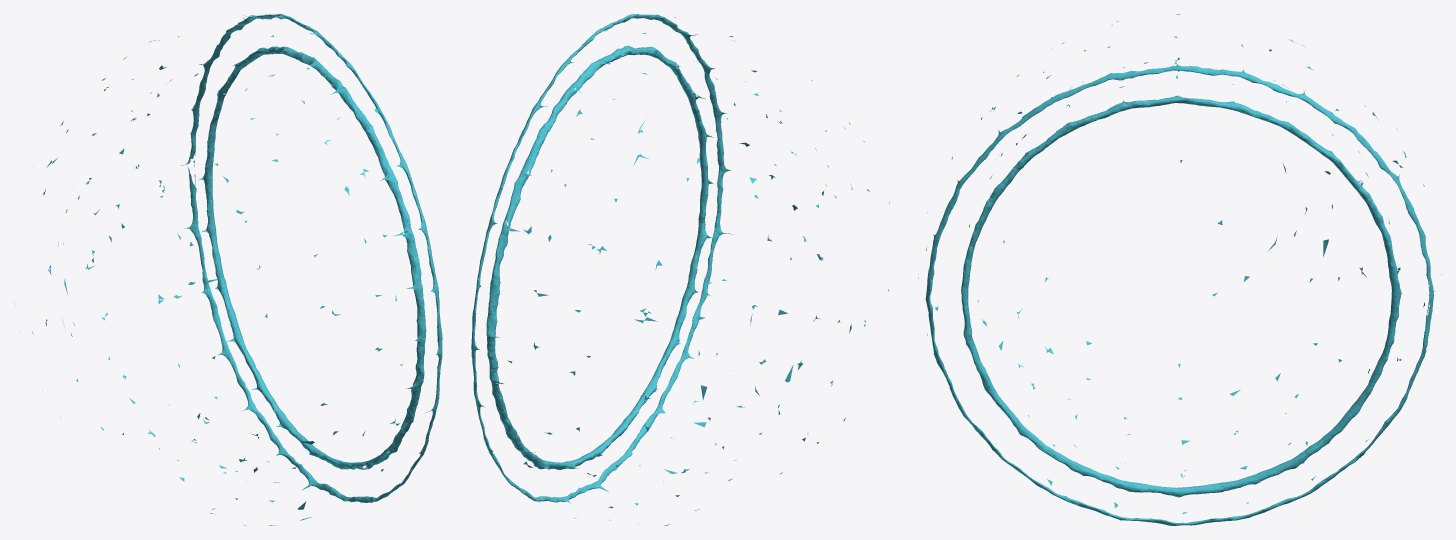
3 renders of one model, left to right at view 1: azimuth 30°, elevation 25°; view 2: azimuth 150°, elevation 25°; view 3: azimuth 270°, elevation 25°, orthographic.
Parts seen in each view (by area): view 1: Renderer Node; view 2: Renderer Node; view 3: Renderer Node.
Boxes of the visible parts, x1,y1,x2,y2 form: Renderer Node: [14, 14, 442, 525]; Renderer Node: [471, 14, 889, 525]; Renderer Node: [918, 14, 1441, 525].
Bounding box in the file's own units: 0.3927 × 0.6468 × 0.647.
1 material, 1 textured.
